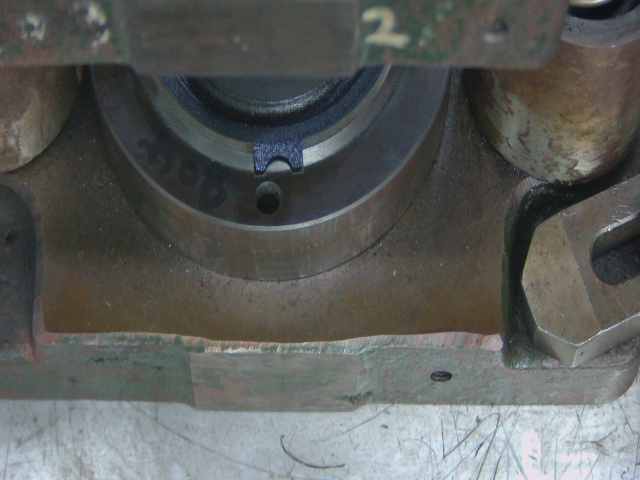HX2: (252, 136, 313, 188)
